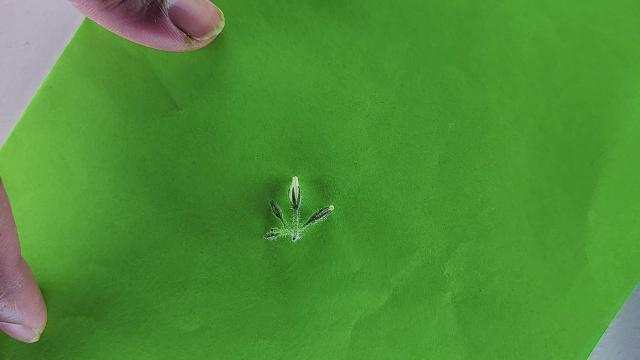Flower Bud: (302, 205, 334, 228), (289, 176, 301, 211), (269, 199, 284, 224), (263, 230, 281, 239)
